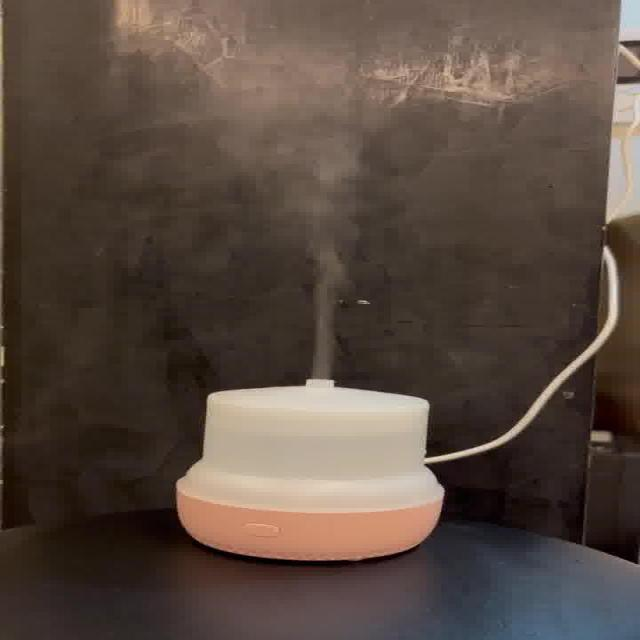fire: (290, 134, 384, 378)
